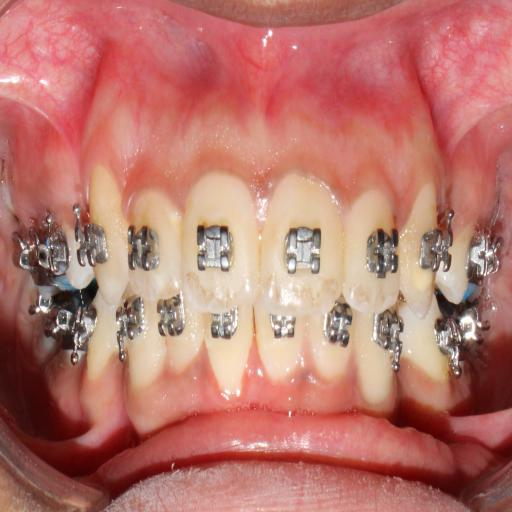correct_brace: (194, 214, 234, 278), (279, 224, 325, 276), (127, 218, 163, 279), (417, 225, 456, 273), (366, 226, 400, 279), (76, 215, 109, 269)
incorrect_brace: (346, 186, 402, 312), (126, 183, 182, 303)
